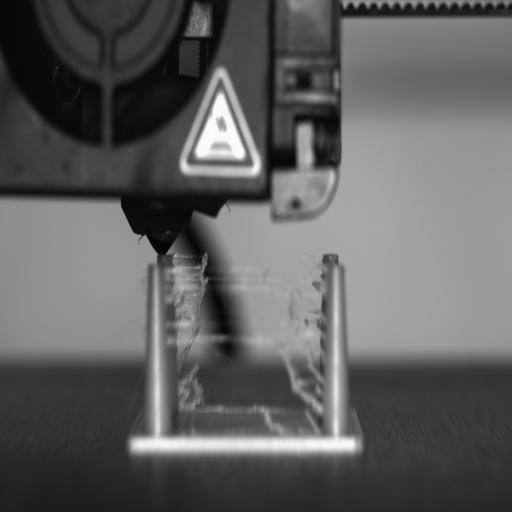spaghetti_and_stringing: (170, 254, 327, 432)
